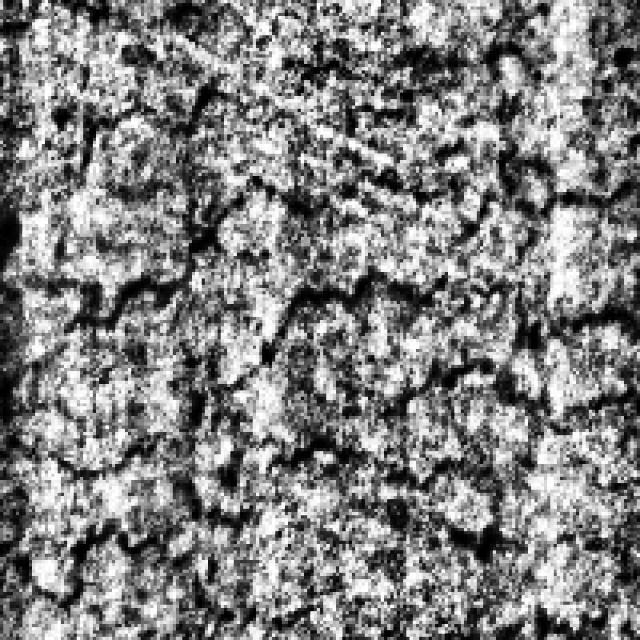Pitted_Surface: (68, 266, 630, 522), (185, 0, 628, 298), (0, 390, 246, 607)
